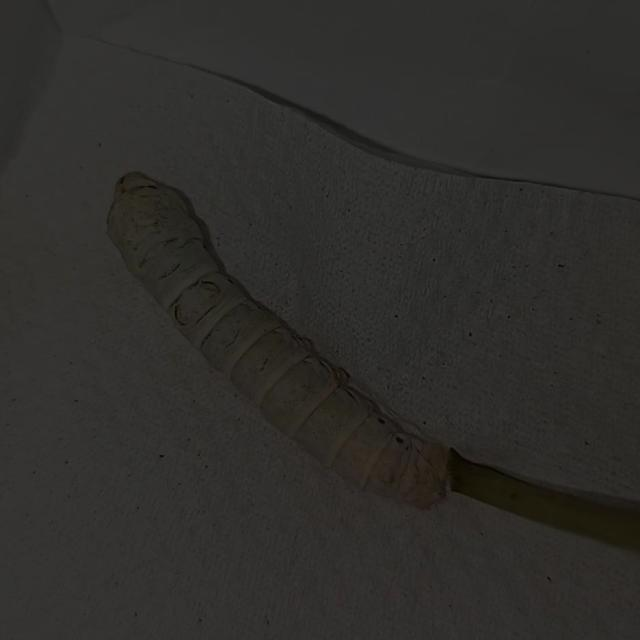Healthy: (98, 162, 470, 510)
